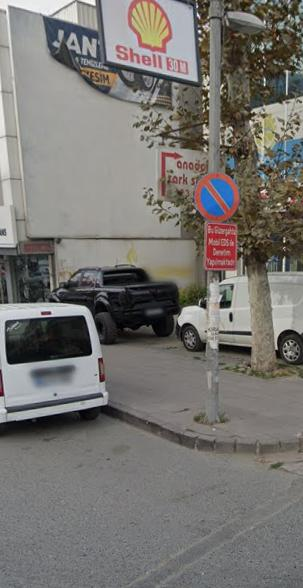nopark: (197, 173, 237, 219)
